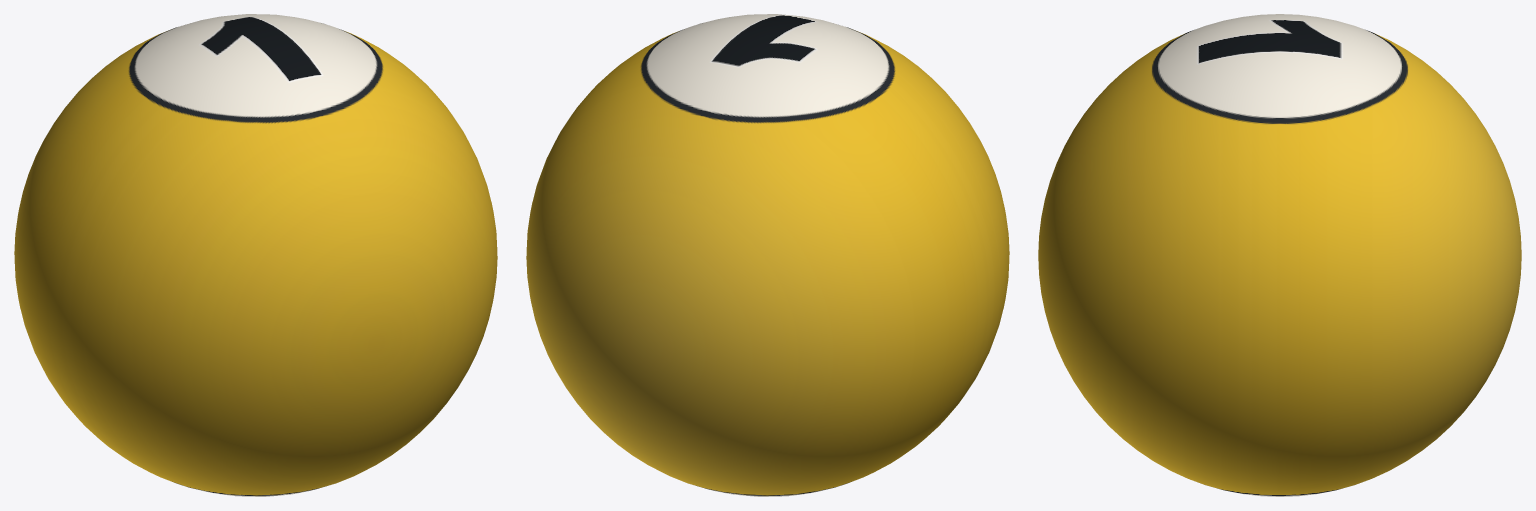
The model's file is ball-pool-1.glb.
3 views of the same model, side by side, from view 1: azimuth 30°, elevation 25°; view 2: azimuth 150°, elevation 25°; view 3: azimuth 270°, elevation 25° (orthographic).
Visible parts, largest first — view 1: ball; view 2: ball; view 3: ball.
Part boxes in pixels (left/top/right/bottom): ball: left=14, top=14, right=497, bottom=496; ball: left=526, top=14, right=1009, bottom=496; ball: left=1038, top=14, right=1521, bottom=496.
Bounding box in the file's own units: 0.0655 × 0.0655 × 0.0655.
Materials: 1 (1 with a texture image).
